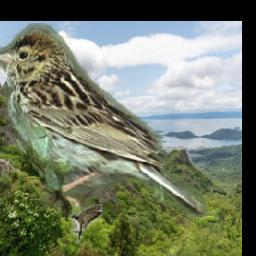Sparrow: (0, 23, 208, 217)
Swallow: (71, 205, 104, 246)
